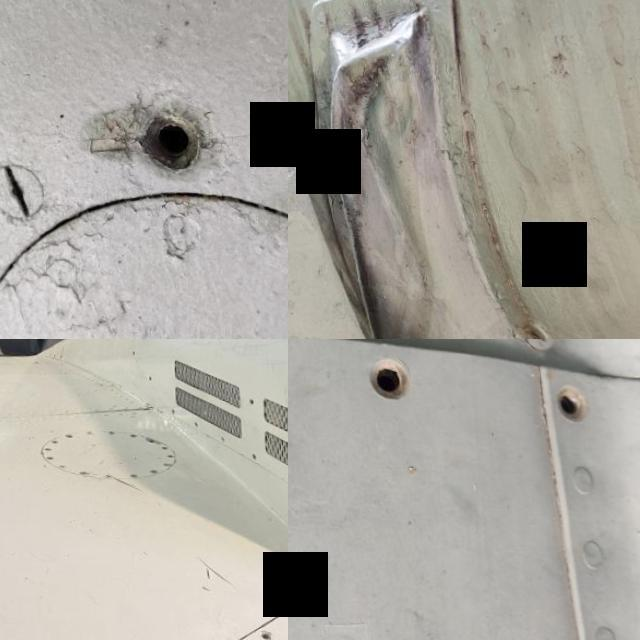Dent: (305, 0, 447, 205)
Missing_Fastener: (95, 61, 236, 212), (341, 339, 439, 433), (526, 348, 614, 439), (256, 626, 272, 638), (246, 394, 255, 402), (62, 432, 72, 438), (130, 348, 134, 353), (148, 373, 150, 378)
